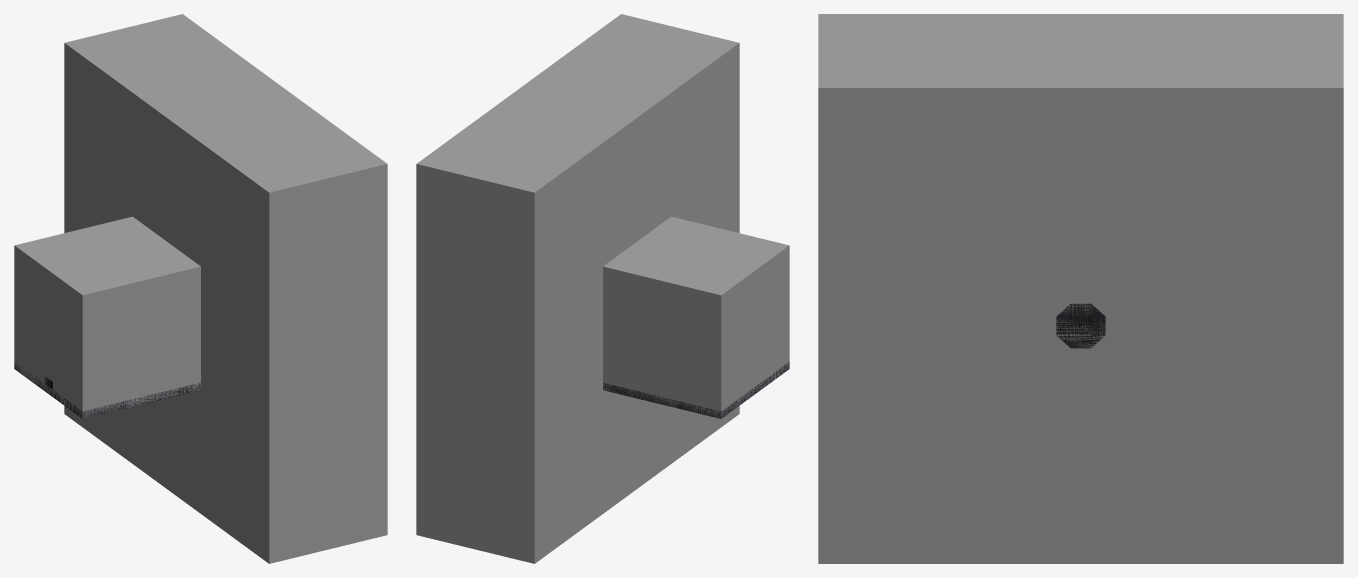
The model's file is SmallWaterWheel.obj.
The picture shows the model from 3 angles, left to right: view 1: azimuth 30°, elevation 25°; view 2: azimuth 150°, elevation 25°; view 3: azimuth 270°, elevation 25°; orthographic projection. The views are drawn at different scales.
Visible parts, largest first — view 1: Minecraft_Block.002_Cube.003, Minecraft_Block.001_Cube.002, Support; view 2: Minecraft_Block.002_Cube.003, Minecraft_Block.001_Cube.002, Support; view 3: Minecraft_Block.002_Cube.003, Wheel.
Part boxes in pixels (x1,y1,x2,y2): Minecraft_Block.002_Cube.003: (64,14,387,563); Minecraft_Block.001_Cube.002: (14,216,200,418); Support: (14,362,200,418); Minecraft_Block.002_Cube.003: (416,14,739,563); Minecraft_Block.001_Cube.002: (603,216,789,418); Support: (603,361,789,418); Minecraft_Block.002_Cube.003: (818,14,1343,563); Wheel: (1056,303,1105,348).
Bounding box in the file's own units: 2 × 3 × 3.
Materials: 2 (1 with a texture image).
